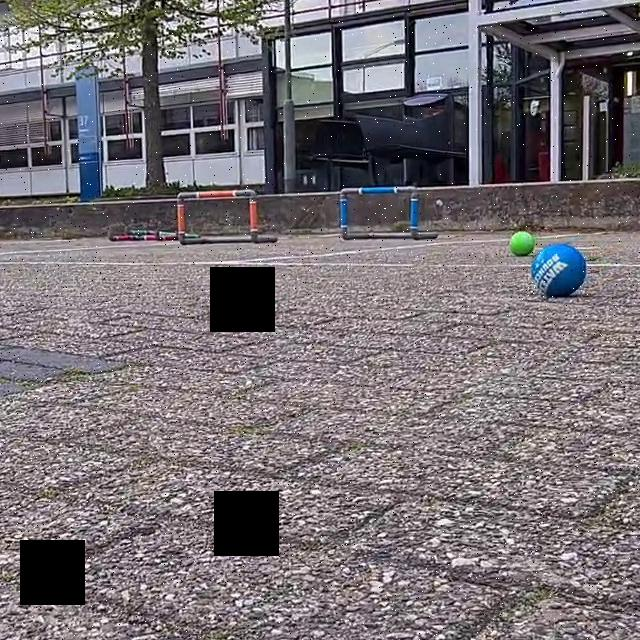ball: (507, 228, 538, 258)
